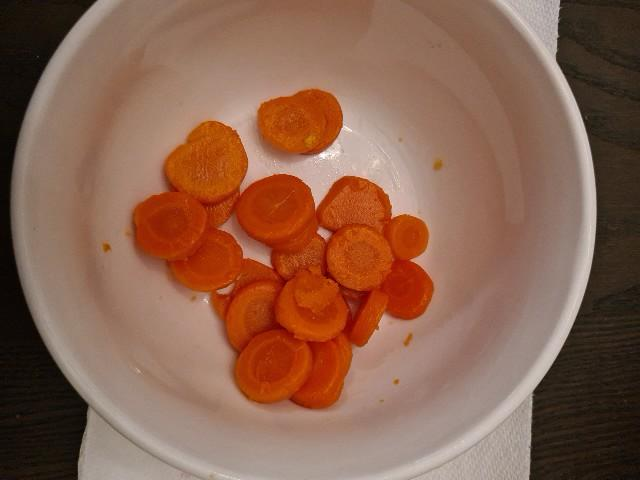kichen waste: (135, 94, 433, 408)
